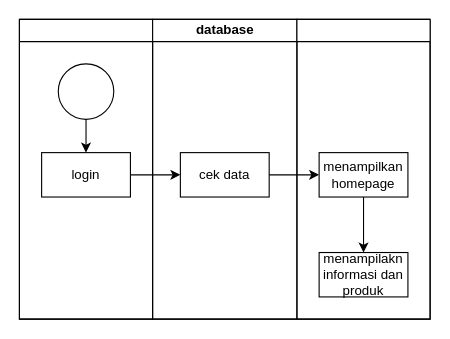
Some shapes in this 450 by 339 pixel diagram are drawn without their labels. The shapes that lost their labels are listed below. From the top down, each one's box as (x1, y1, x2, y2) in pixels, then its label:
(18, 18, 153, 319): actor
(296, 18, 430, 319): system
